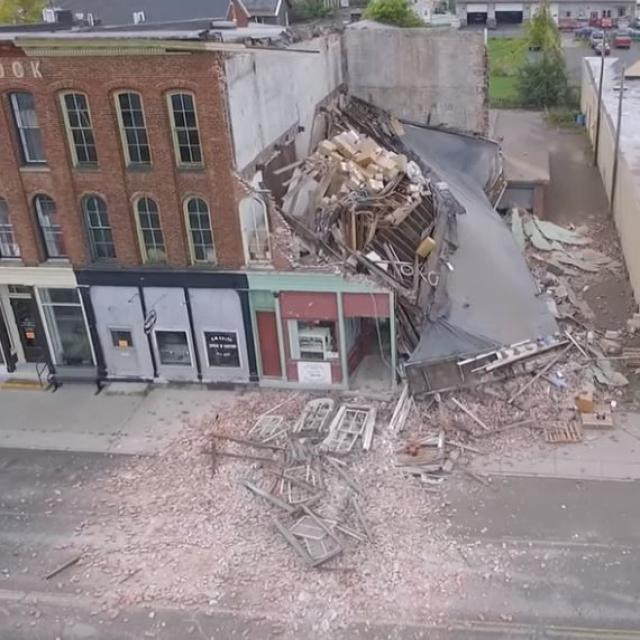collapsed_building: (260, 105, 566, 400)
